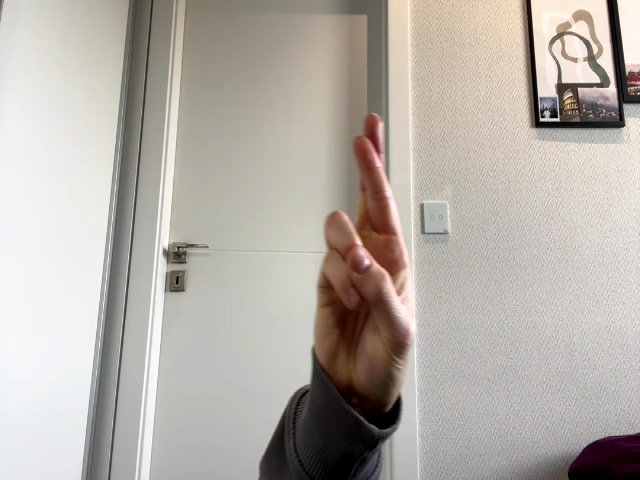R: (314, 113, 413, 405)
